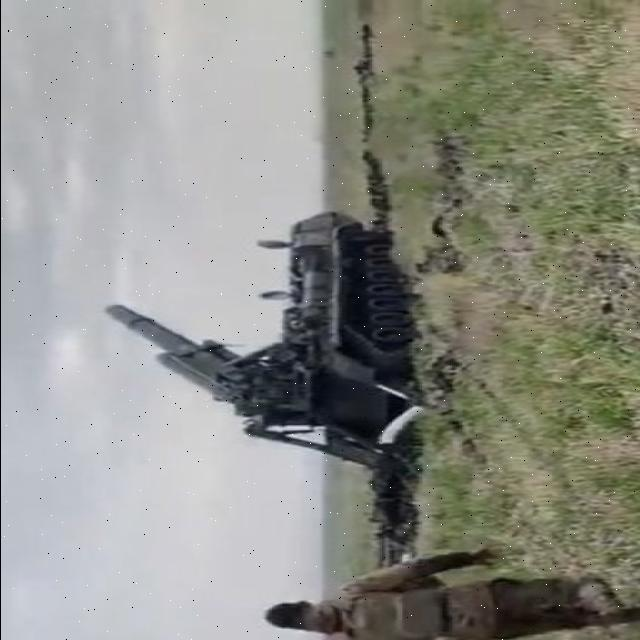ART: (95, 210, 429, 461)
